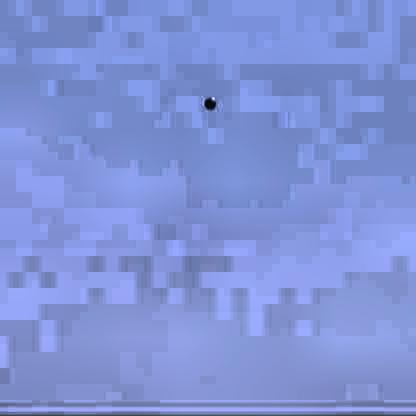golfball: (200, 95, 213, 106)
